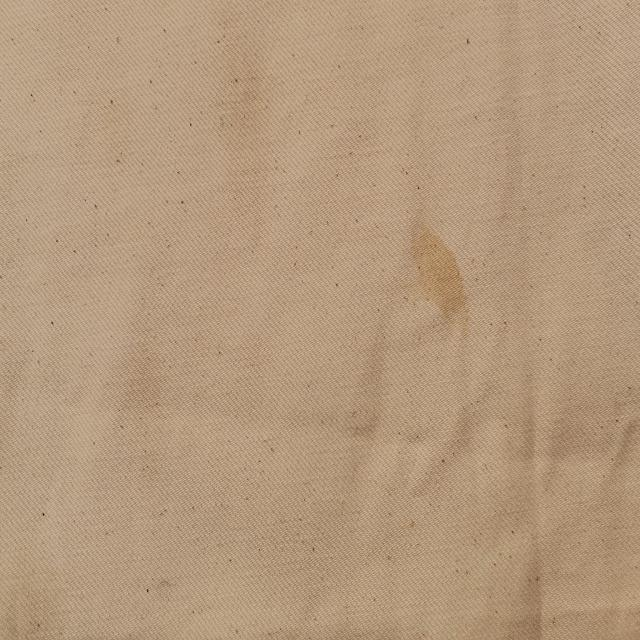taaaches: (402, 198, 476, 338)
